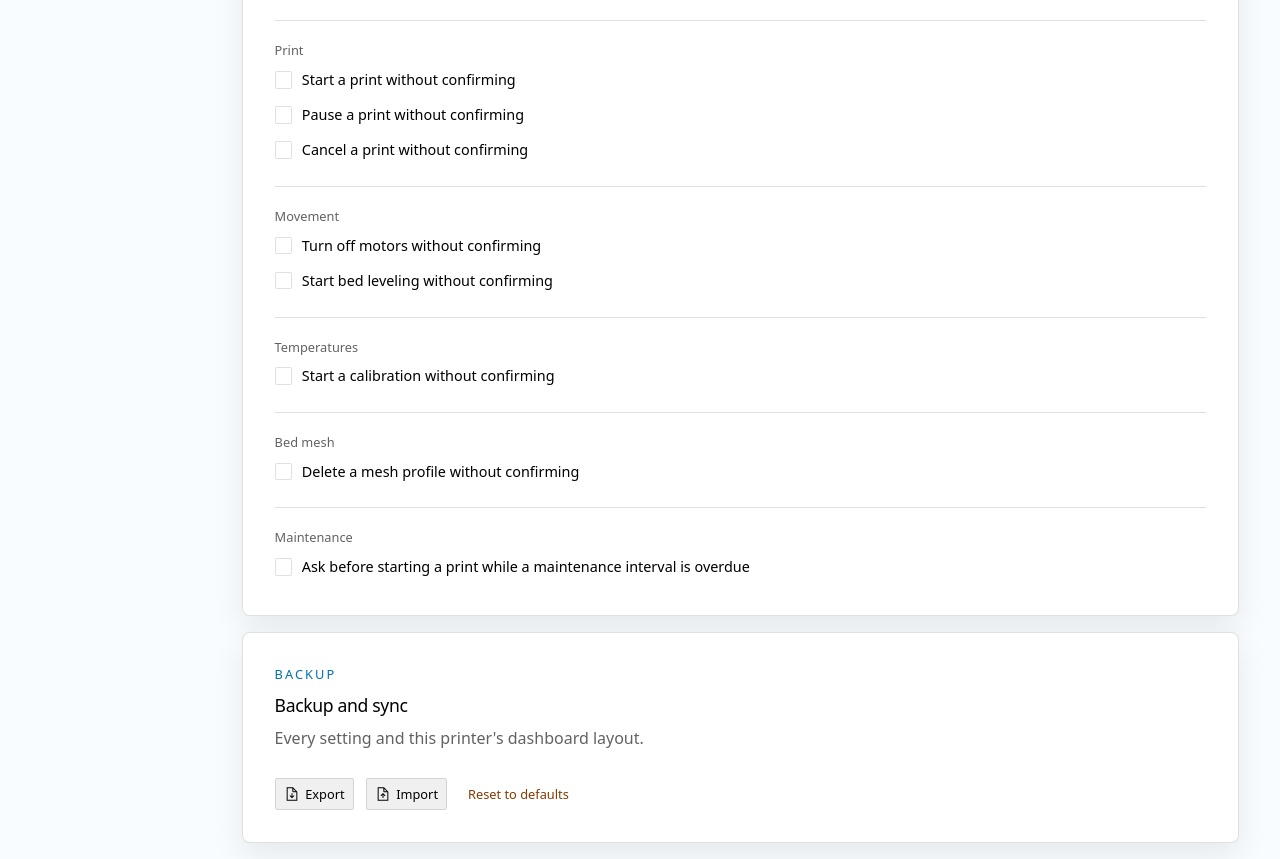
Test: SettingsView — backup › resets settings live, without a reload, once the reset is confirmed
(page scrolled)
Click the button with class "button--danger-quiet" at (518, 794), box [459,778,578,810]
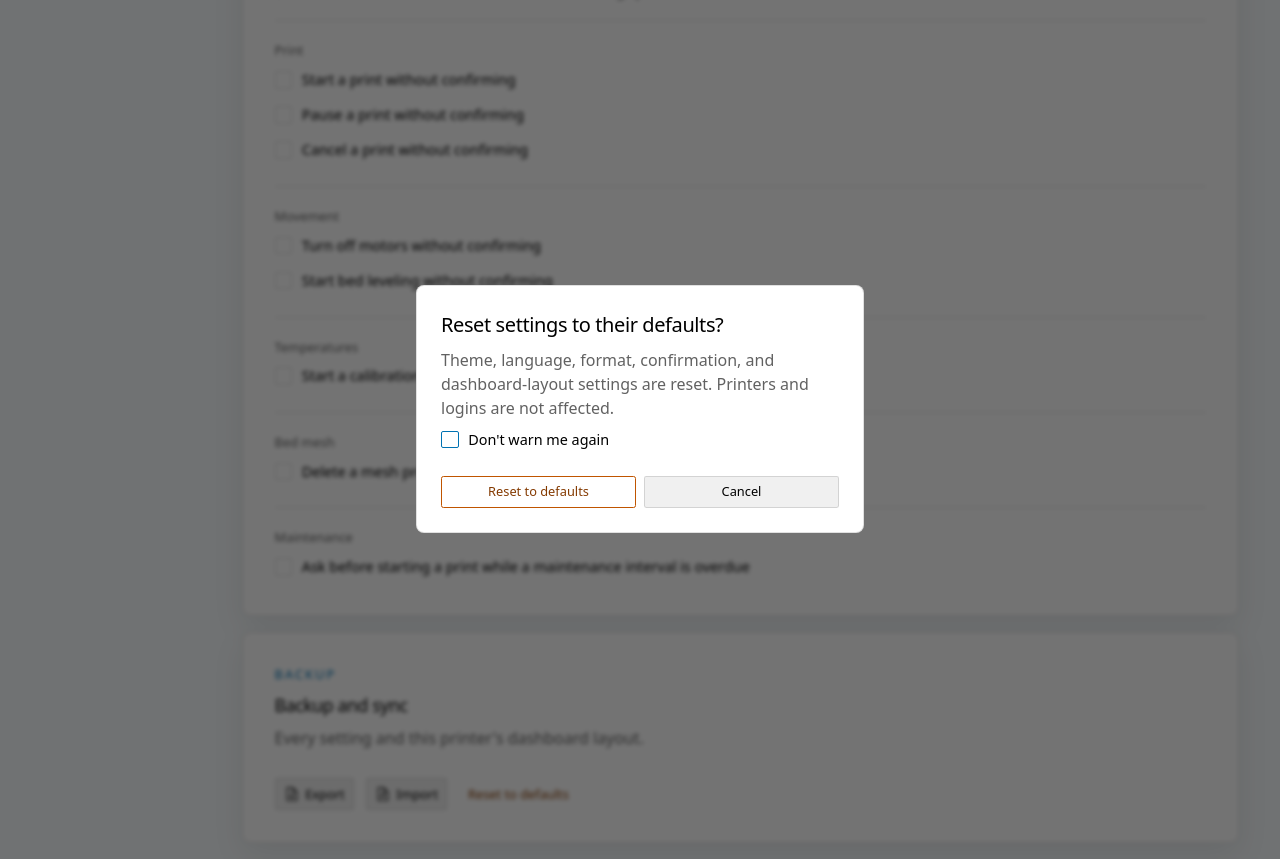
Click the button with class "button--danger" at (538, 492), box [441,476,636,508]
(page scrolled)
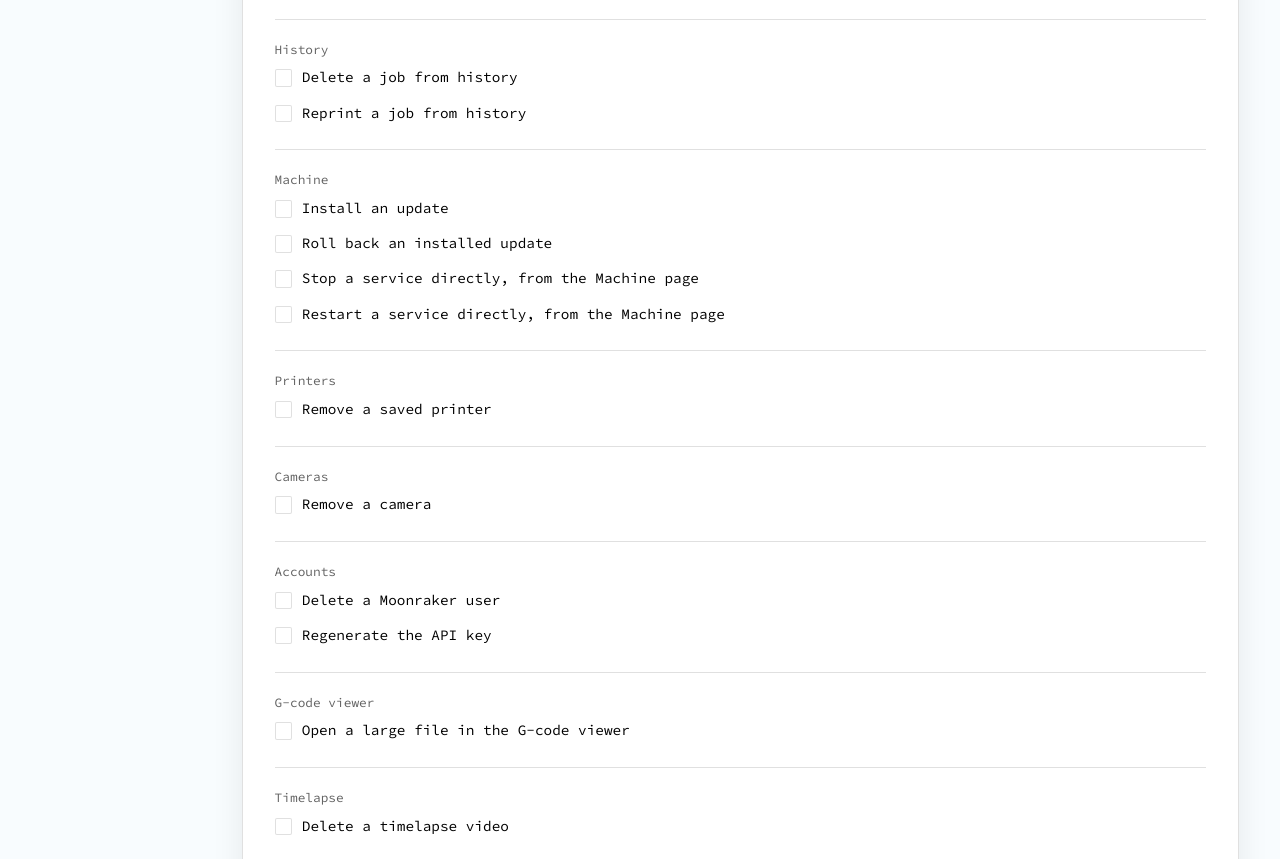
Check: the checkbox labelled "Remove a saved printer" is not checked, box [275,401,292,418]
